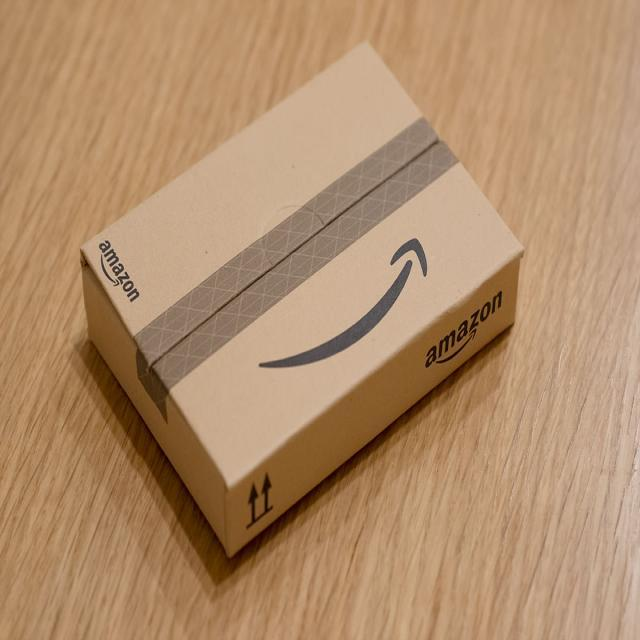-: (73, 36, 534, 570)
